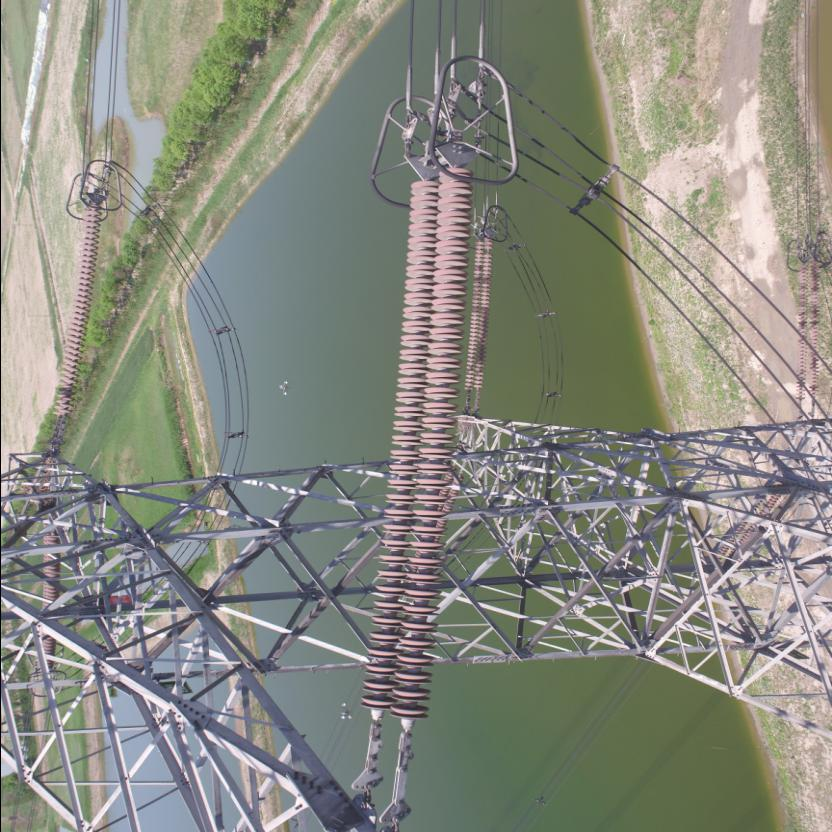insulator: (353, 157, 475, 762), (46, 200, 104, 436), (460, 234, 492, 402)
